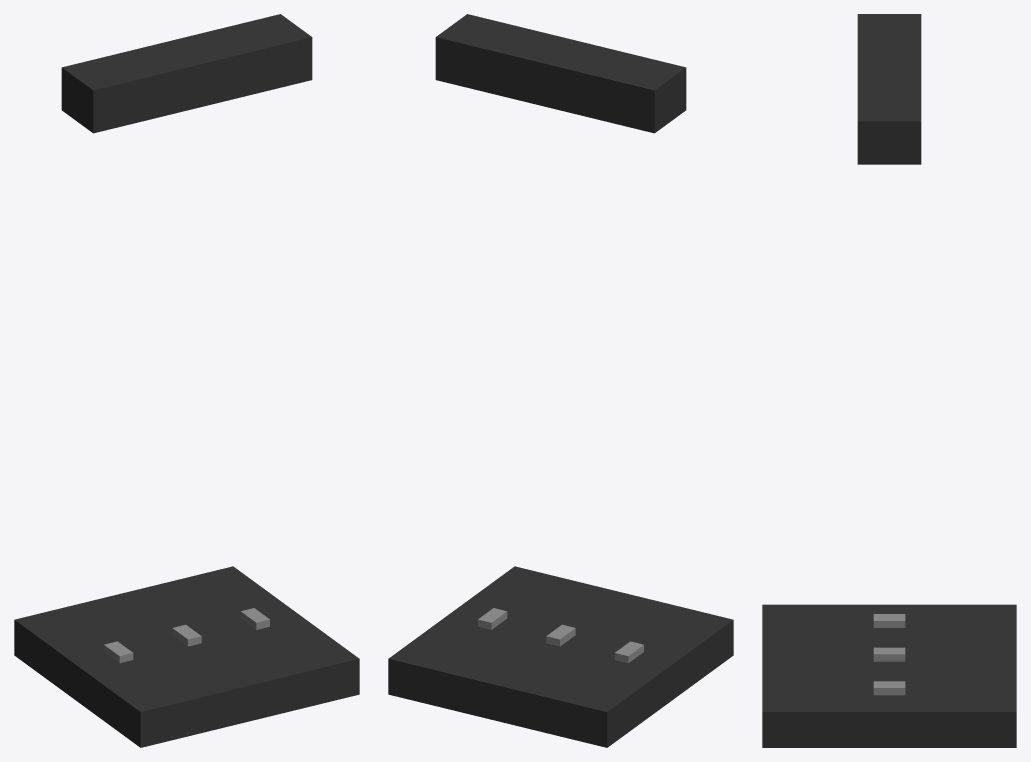
The model's file is Portal_2.2.1.obj.
The picture shows the model from 3 angles, left to right: view 1: azimuth 30°, elevation 25°; view 2: azimuth 150°, elevation 25°; view 3: azimuth 270°, elevation 25°; orthographic projection.
Size of the model in its own units: 3.2 by 8.7 by 3.2.
1 material, 1 textured.
